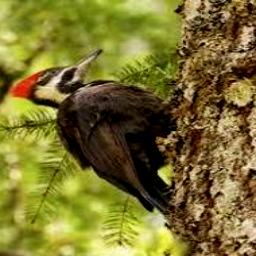Woodpecker: (11, 48, 178, 216)
